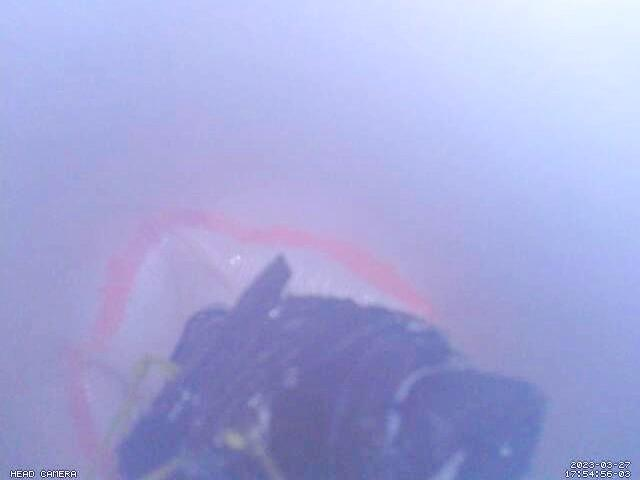head: (62, 208, 436, 477)
